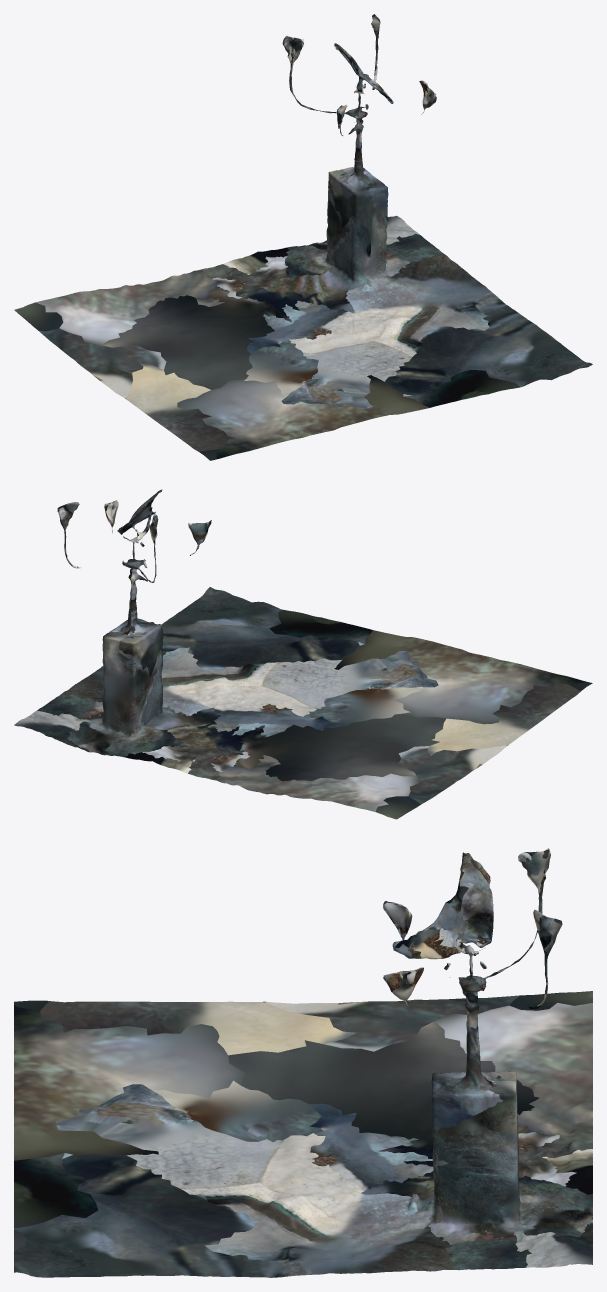
Rendered from white_butterflies.obj.
3 views of the same model, one above another, from view 1: azimuth 30°, elevation 25°; view 2: azimuth 150°, elevation 25°; view 3: azimuth 270°, elevation 25° (orthographic). The views are drawn at different scales.
Visible parts, largest first — view 1: Object; view 2: Object; view 3: Object.
Boxes of the visible parts, x1,y1,x2,y2 form: Object: (14,14,592,460); Object: (14,489,592,819); Object: (14,848,592,1277).
Bounding box in the file's own units: 4.57 × 2.77 × 4.06.
